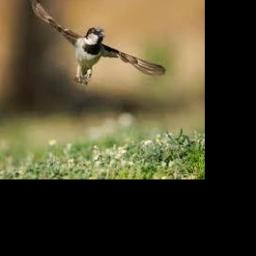Sparrow: (30, 0, 166, 85)
